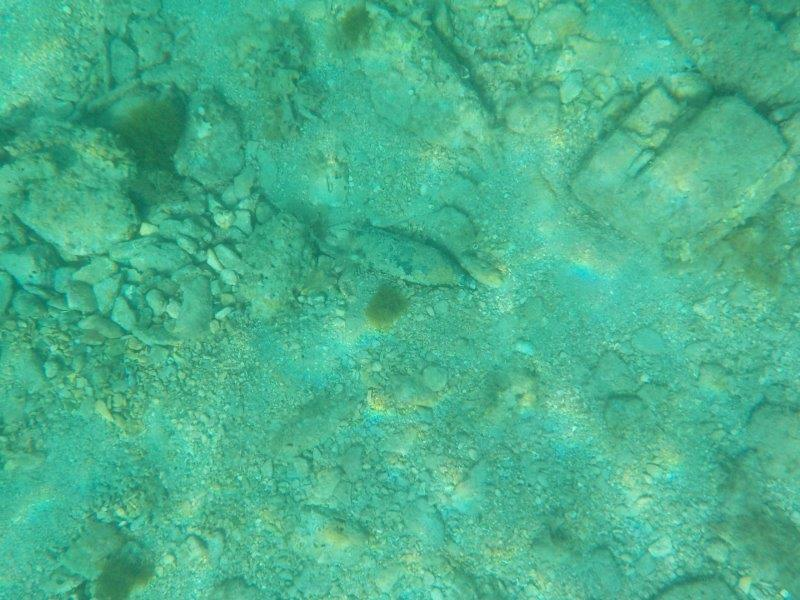bottle: (340, 223, 484, 295)
